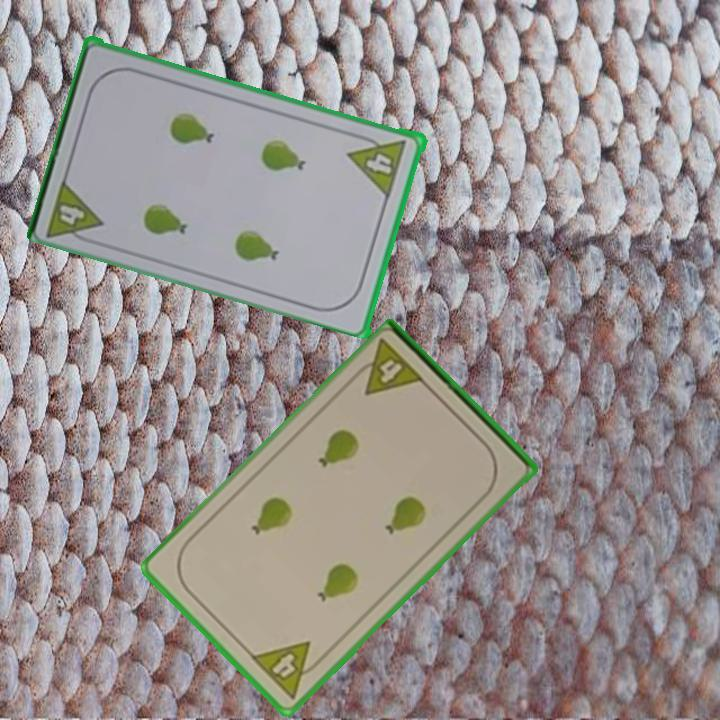4p: (247, 638, 328, 702), (348, 336, 428, 399), (346, 149, 399, 198), (57, 201, 88, 228)
